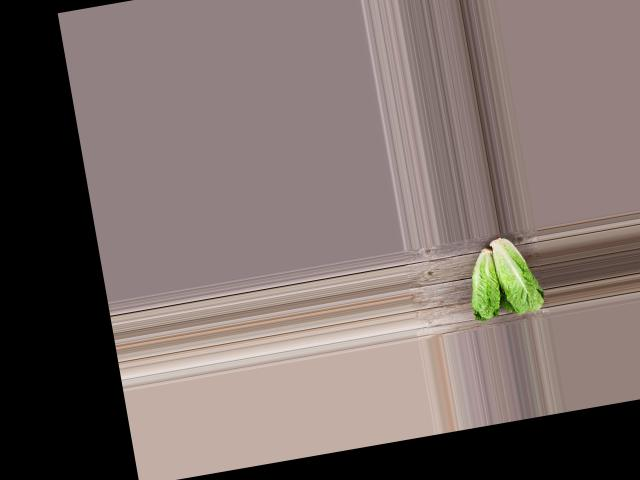lettuce: (488, 228, 548, 320)
